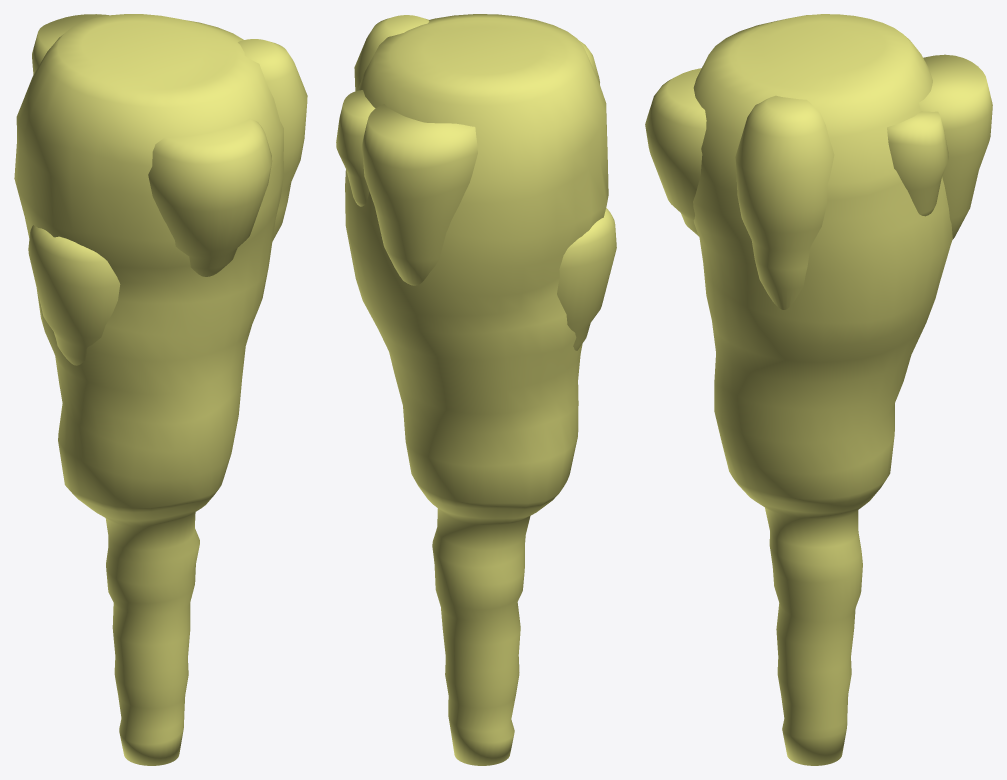
Rendered from RockPillar2.fbx.
3 renders of one model, left to right at view 1: azimuth 30°, elevation 25°; view 2: azimuth 150°, elevation 25°; view 3: azimuth 270°, elevation 25°, orthographic.
Visible parts, largest first — view 1: RockPillar2; view 2: RockPillar2; view 3: RockPillar2.
Part boxes in pixels (box(x1,y1,x2,y2)): RockPillar2: box(14, 14, 307, 765); RockPillar2: box(336, 14, 616, 765); RockPillar2: box(645, 14, 992, 765).
Bounding box in the file's own units: 1125 × 2988 × 1333.
